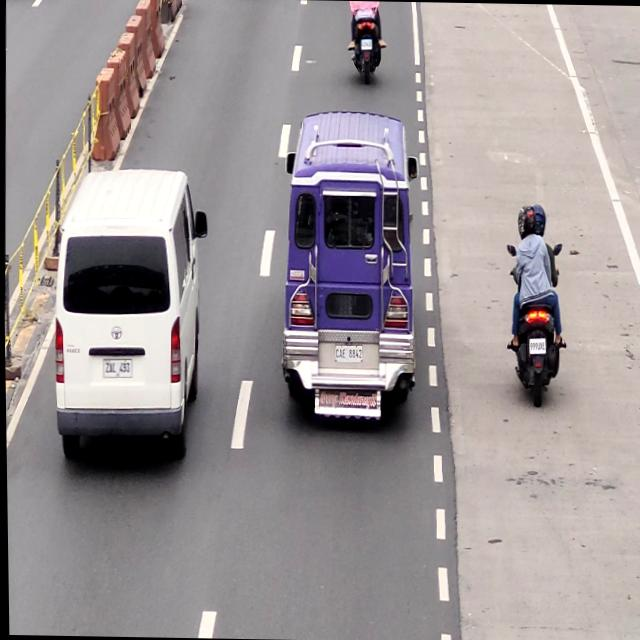Car: (51, 166, 202, 452)
Jeep: (279, 112, 420, 428)
License-Plate: (99, 357, 133, 381), (332, 342, 364, 364), (527, 334, 546, 354), (357, 37, 374, 54)
Motorcycle: (505, 208, 567, 414), (348, 0, 386, 86)
